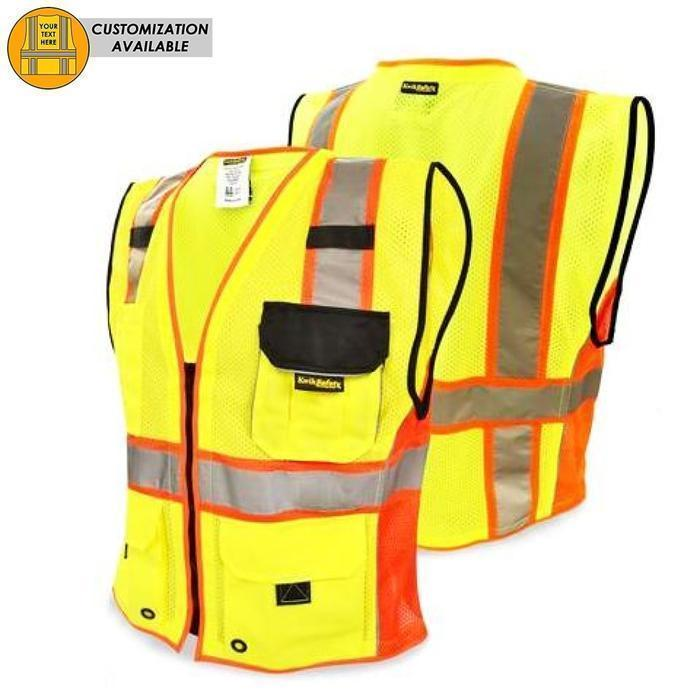Glass: (98, 105, 459, 673)
